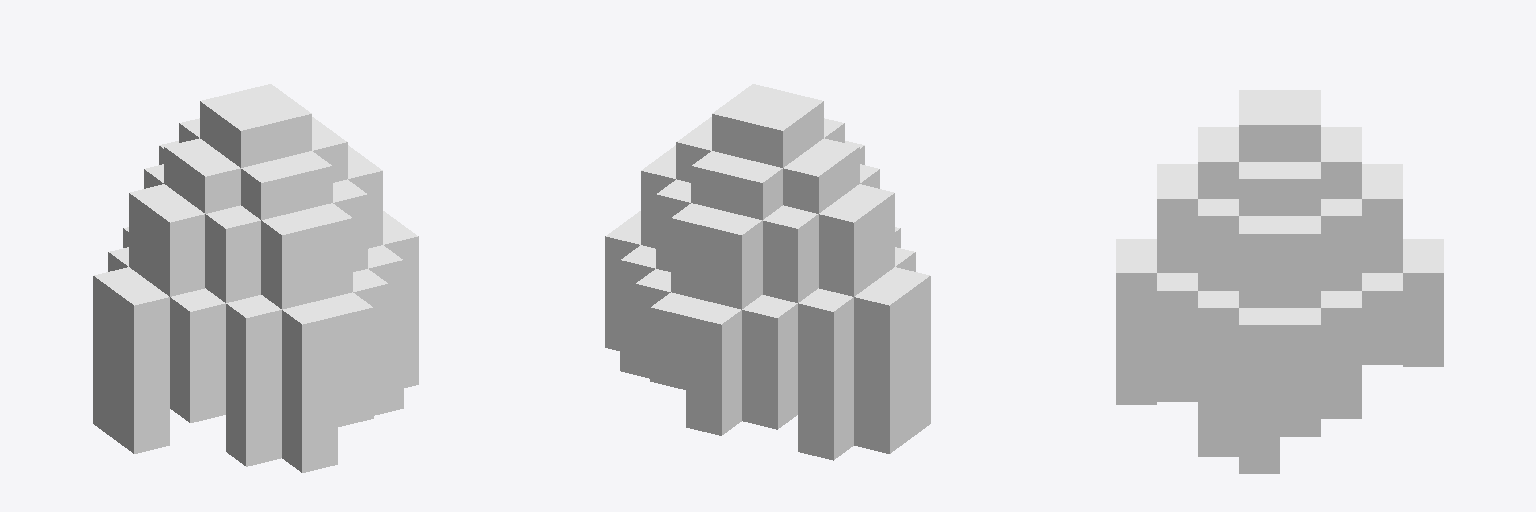
File: EggBrokenTop.obj
3 views of the same model, side by side, from view 1: azimuth 30°, elevation 25°; view 2: azimuth 150°, elevation 25°; view 3: azimuth 270°, elevation 25° (orthographic).
Parts seen in each view (by area): view 1: object 1; view 2: object 1; view 3: object 1.
Part boxes in pixels (bbox=[...]): object 1: bbox=[93, 84, 418, 472]; object 1: bbox=[605, 84, 930, 460]; object 1: bbox=[1116, 90, 1443, 473].
Size of the model in its own units: 0.8 by 0.8 by 0.8.